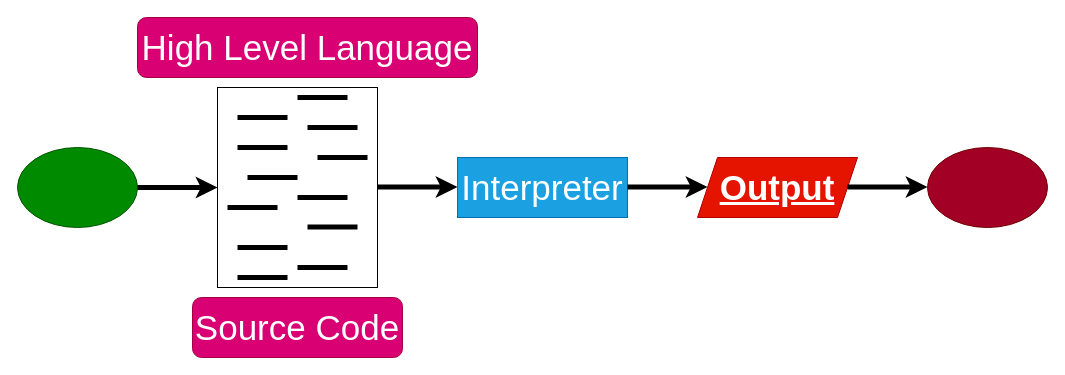
The diagram is 1065 pixels wide and 375 high, and some of its shapes have lost their labels. The shapes that lost their labels are listed below. From the top down, each one's box as (x1, y1, x2, y2) in pixels, then its label:
(16, 146, 138, 228): Start
(926, 146, 1048, 228): Stop
